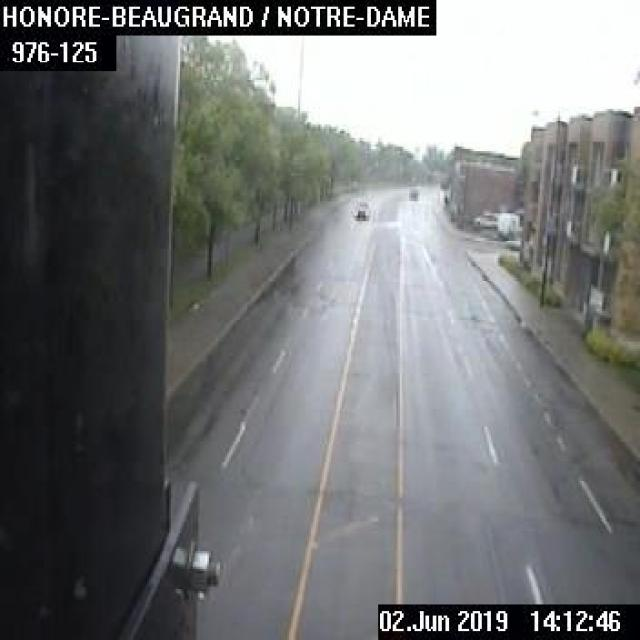vehicle: (472, 210, 496, 227), (405, 182, 420, 198), (354, 200, 367, 216)
